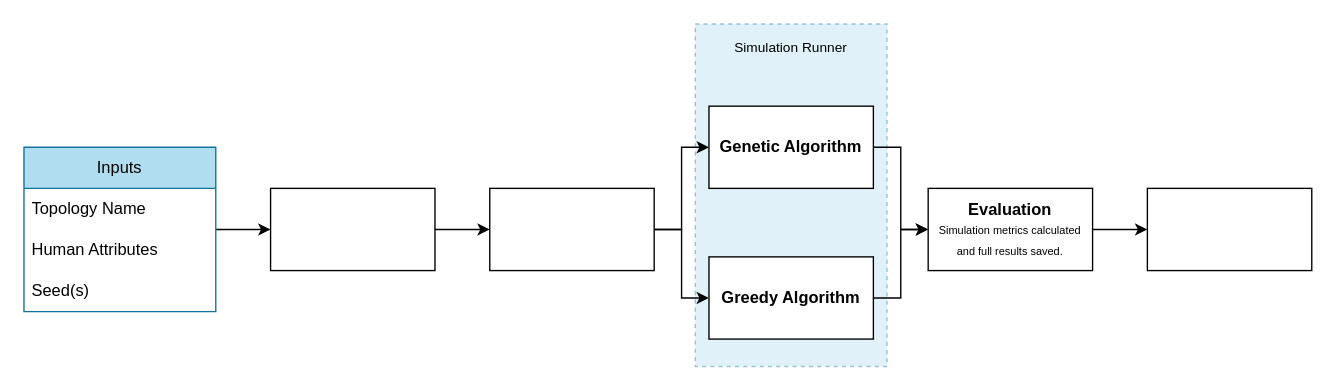
Image size: 1336x390. Some labels were removed from this diagram. Each missing label, with the centre of its shape:
Agent Population Agents created from seed with characteristics defined.: (x=571, y=229)
Environment Graph Network Loaded: (x=352, y=229)
Results Algorithm comparison and key metrics extracted.: (x=1229, y=229)
